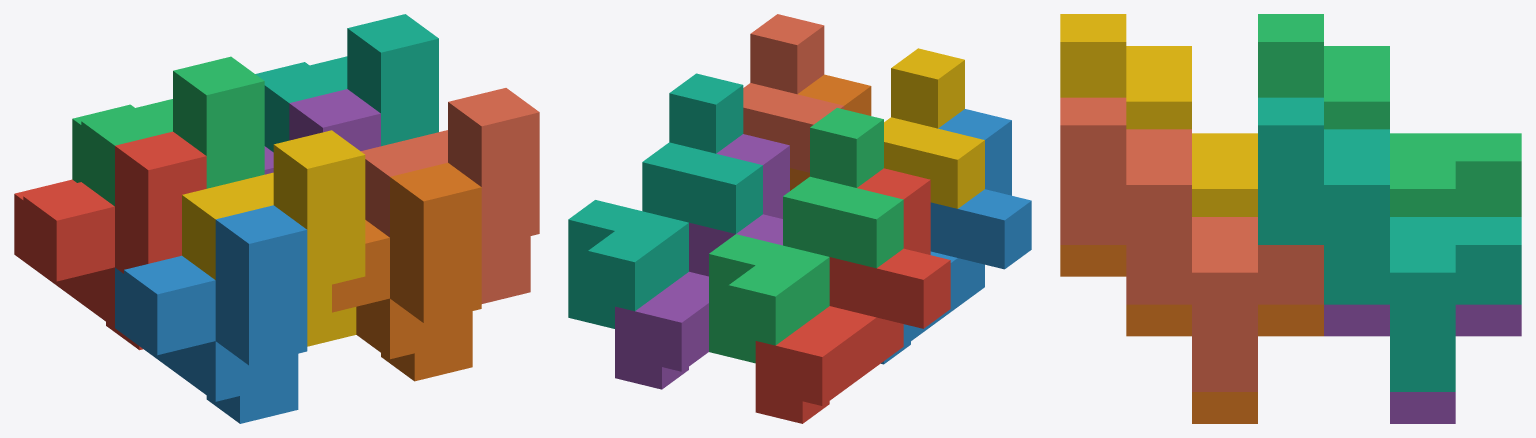
Rendered from tiling.obj.
The picture shows the model from 3 angles, left to right: view 1: azimuth 30°, elevation 25°; view 2: azimuth 150°, elevation 25°; view 3: azimuth 270°, elevation 25°; orthographic projection. The views are drawn at different scales.
Visible parts, largest first — view 1: copy_1_domain_2, copy_1_domain_6, copy_1_domain_1, copy_1_domain_8, copy_1_domain_4, copy_1_domain_3, copy_1_domain_7, copy_1_domain_5; view 2: copy_1_domain_7, copy_1_domain_3, copy_1_domain_1, copy_1_domain_5, copy_1_domain_2, copy_1_domain_4, copy_1_domain_8, copy_1_domain_6; view 3: copy_1_domain_7, copy_1_domain_8, copy_1_domain_3, copy_1_domain_4, copy_1_domain_6, copy_1_domain_5.
Boxes of the visible parts, x1,y1,x2,y2 form: copy_1_domain_2: (115,205,307,423); copy_1_domain_6: (332,163,481,381); copy_1_domain_1: (14,131,206,350); copy_1_domain_8: (361,88,539,303); copy_1_domain_4: (182,130,365,346); copy_1_domain_3: (72,56,264,206); copy_1_domain_7: (255,14,438,152); copy_1_domain_5: (264,89,380,174); copy_1_domain_7: (568,73,762,328); copy_1_domain_3: (709,108,903,363); copy_1_domain_1: (755,168,950,423); copy_1_domain_5: (615,134,789,389); copy_1_domain_2: (881,109,1031,364); copy_1_domain_4: (884,48,984,208); copy_1_domain_8: (743,14,844,172); copy_1_domain_6: (790,74,871,190); copy_1_domain_7: (1258,97,1521,391); copy_1_domain_8: (1060,97,1323,391); copy_1_domain_3: (1258,14,1521,216); copy_1_domain_4: (1060,14,1257,216); copy_1_domain_6: (1060,245,1323,423); copy_1_domain_5: (1324,304,1521,423).
Size of the model in its own units: 7 by 5 by 7.
